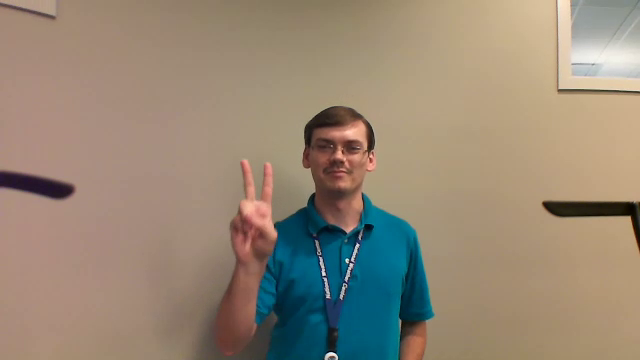peace: (218, 154, 284, 266)
